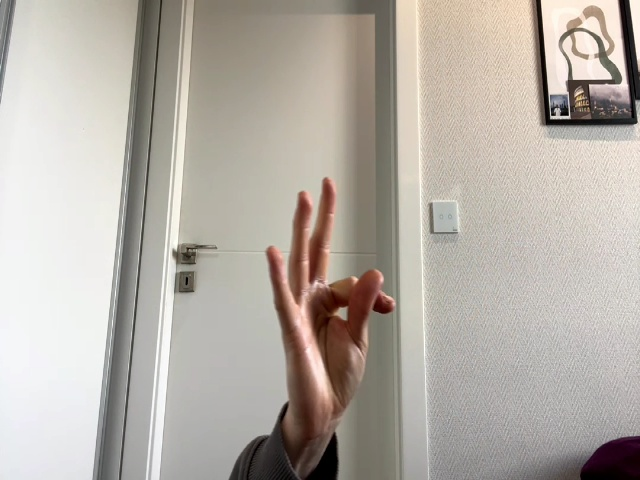T: (266, 178, 395, 411)
